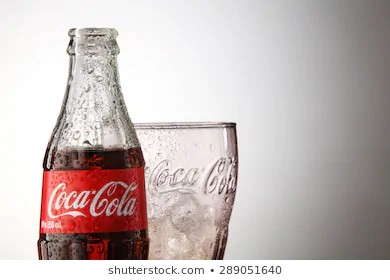coke-glass-bottle: (35, 27, 149, 257)
